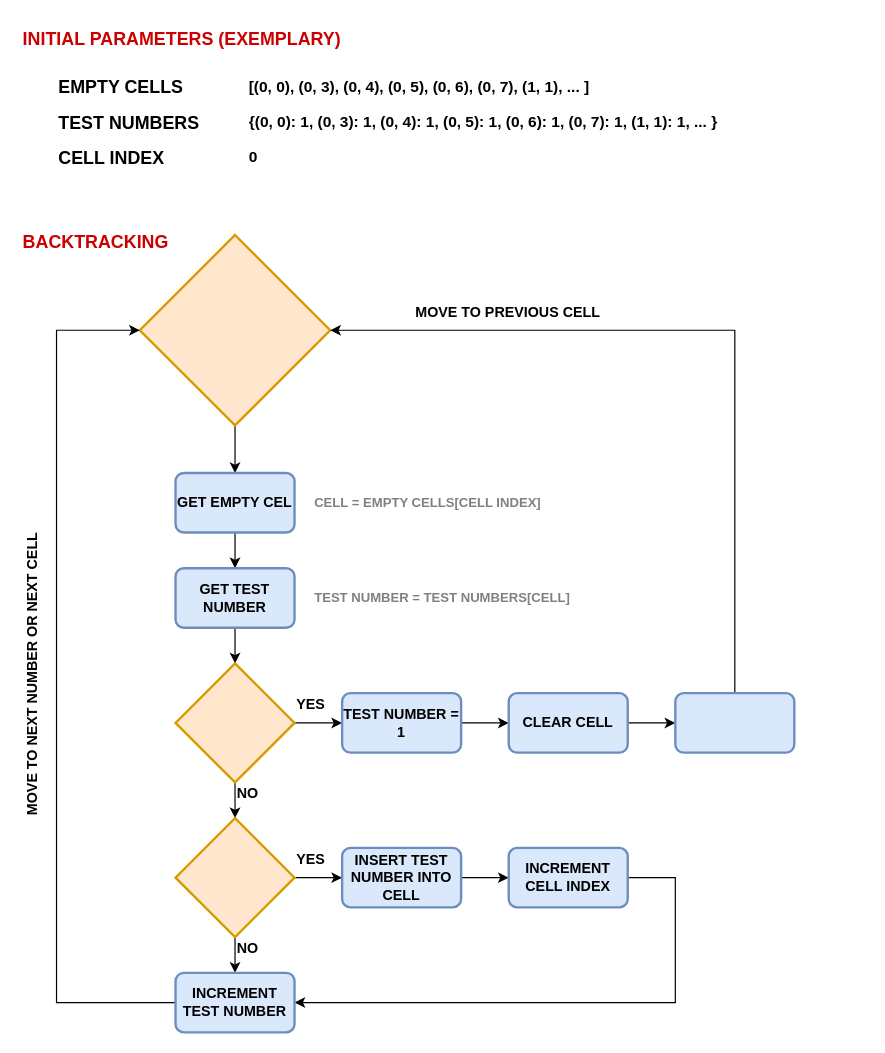
This 885x1053 diagram has some shape labels left out. Here are the shapes that lost their labels. From the top down, the centre of each, then its label:
point 234,329: WHILE CELL INDEX < LEN(EMPTY CELLS)
point 234,722: IF TEST NUMBER == 10
point 734,722: DECREMENT CELL INDEX
point 234,877: IF TEST NUMBER IS VALID IN CELL
